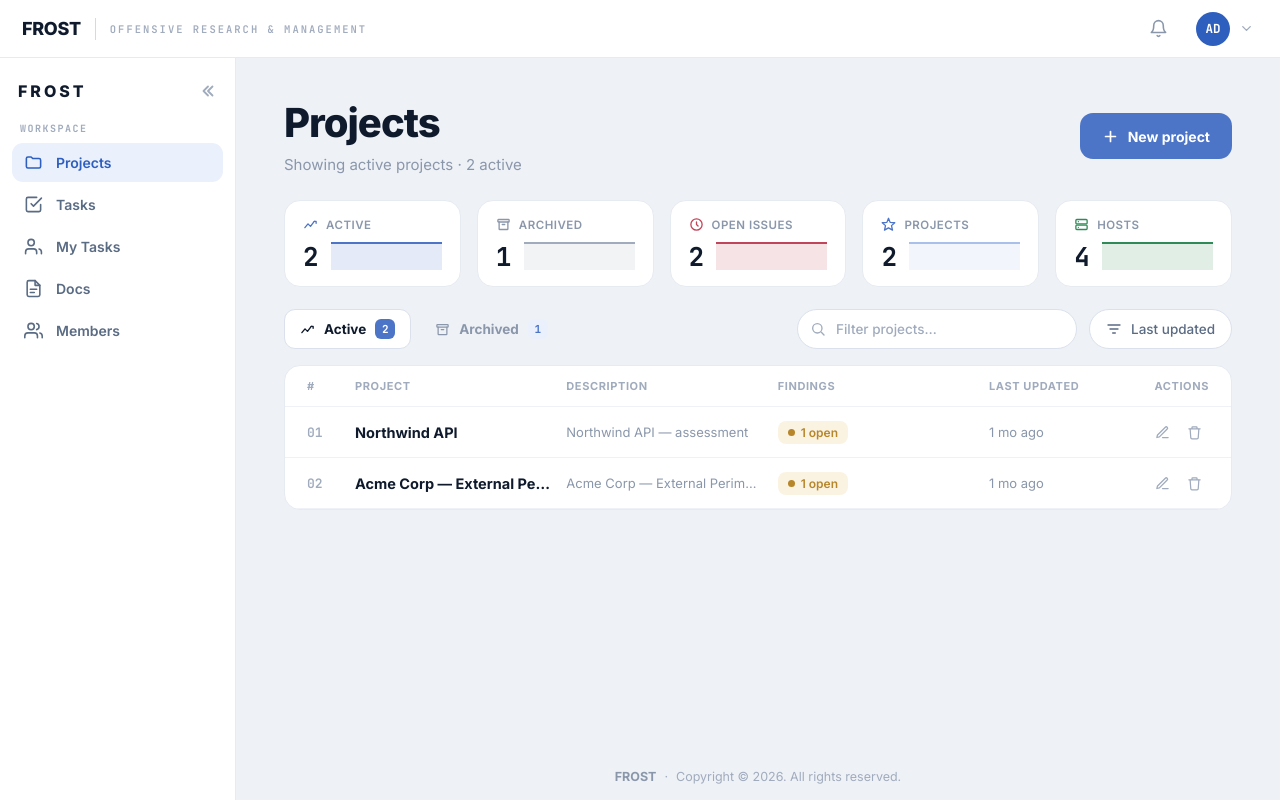
Test: FrostApp (design prototype port) › switches to the Archived tab
The image size is (1280, 800).
Expected: the text "Acme Corp — External Perimeter" is shown, [355, 474, 554, 492]
Expected: the text "Globex VPN Audit" is not shown
Click the text "Archived".
click(492, 329)  # box [435, 319, 548, 339]
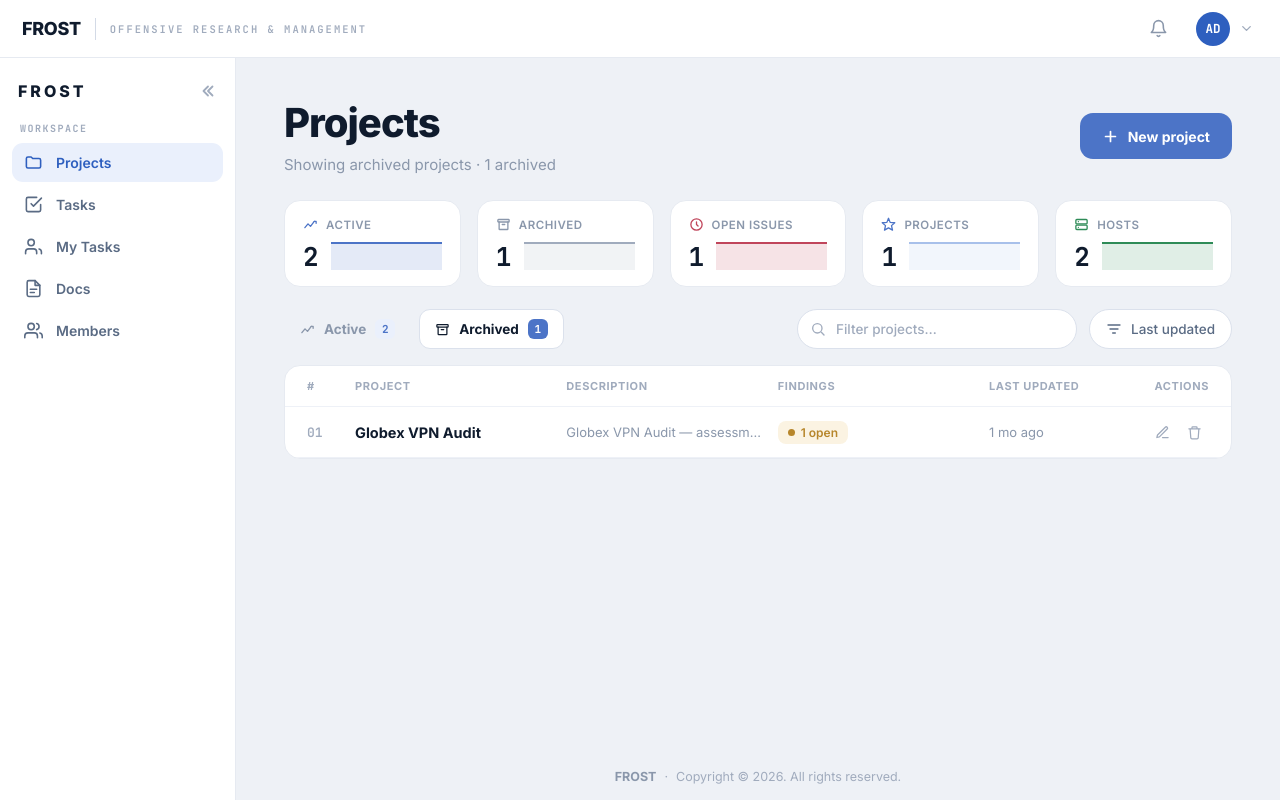
Now the text "Globex VPN Audit" is shown, box [355, 424, 481, 440]
Now the text "Northwind API" is gone
